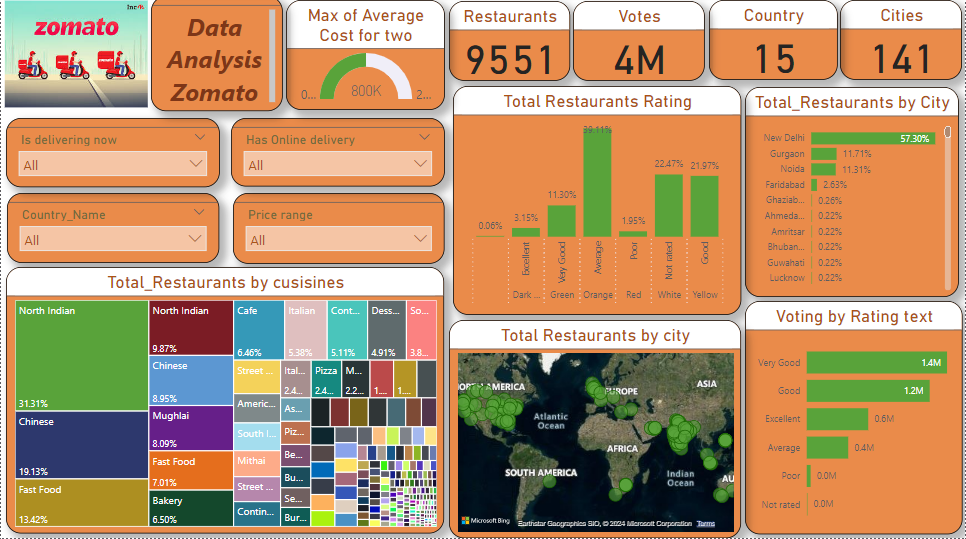

The page's visual inventory and layout, read from the dashboard file:
{"tool":"powerbi","page":{"name":"Page 1","canvas":[1280,720],"ordinal":0},"visuals":[{"type":"slicer","fields":{"Values":["zomato.country_names"]},"box":[8,261.7,281.6,93],"z":0},{"type":"slicer","fields":{"Values":["zomato.Price range"]},"box":[308.3,261.5,280.8,93.6],"z":1000},{"type":"slicer","fields":{"Values":["zomato.Has Online delivery"]},"box":[305.5,162.4,283.5,90.8],"z":2000},{"type":"slicer","fields":{"Values":["zomato.Is delivering now"]},"box":[6.6,162.1,284.3,91.7],"z":3000},{"type":"card","title":"Cities","fields":{"Values":["zomato.Total_cities"]},"box":[1114.8,5.5,162.4,106],"z":4000},{"type":"card","title":"Country","fields":{"Values":["zomato.Total_country"]},"box":[940,5.5,170.7,106],"z":5000},{"type":"card","title":"Restaurants","fields":{"Values":["zomato.total_resturants"]},"box":[594.6,6.9,161,106],"z":6000},{"type":"card","title":"Votes","fields":{"Values":["Sum(zomato.Votes)"]},"box":[759.7,6.9,174.8,106],"z":7000},{"type":"barChart","title":"Total_Restaurants  by City","fields":{"Y":["zomato.total_resturants"],"Category":["zomato.City"]},"box":[988.2,121.1,283.5,279.4],"z":8000},{"type":"treemap","title":" Total_Restaurants by cusisines","fields":{"Group":["zomato.cusisines"],"Values":["zomato.total_resturants"]},"box":[6.9,360.6,582.2,353.7],"z":9000},{"type":"columnChart","title":"Total Restaurants Rating ","fields":{"Category":["zomato.Rating color","zomato.Rating text"],"Y":["zomato.total_resturants"]},"box":[600.4,119.6,382.6,304.2],"z":10000},{"type":"barChart","title":"Voting by Rating text","fields":{"Category":["zomato.Rating text"],"Y":["Sum(zomato.Votes)"]},"box":[988.2,404.6,289,309.7],"z":11000},{"type":"gauge","fields":{"Y":["Max(zomato.Average Cost for two)"]},"box":[378.5,5.5,210.6,145.9],"z":12000},{"type":"map","title":"Total Restaurants by city","fields":{"Category":["zomato.City"],"Size":["zomato.Total_country"]},"box":[595.1,430.4,387.9,289.6],"z":13000},{"type":"image","box":[0,0,199.6,152.8],"z":14000},{"type":"textbox","box":[199.6,0,174.8,152.8],"z":15000}]}

Visuals, with their boxes in screenshot pixels (x1, y1, x2, y2), scaled from the page's 1280x720 canvas onto the 966x539 screenshot:
slicer - zomato.country_names: rect(6, 196, 219, 266)
slicer - zomato.Price range: rect(233, 196, 445, 266)
slicer - zomato.Has Online delivery: rect(231, 122, 445, 190)
slicer - zomato.Is delivering now: rect(5, 121, 220, 190)
"Cities" card: rect(841, 4, 964, 83)
"Country" card: rect(709, 4, 838, 83)
"Restaurants" card: rect(449, 5, 570, 85)
"Votes" card: rect(573, 5, 705, 85)
"Total_Restaurants  by City" barChart: rect(746, 91, 960, 300)
" Total_Restaurants by cusisines" treemap: rect(5, 270, 445, 535)
"Total Restaurants Rating " columnChart: rect(453, 90, 742, 317)
"Voting by Rating text" barChart: rect(746, 303, 964, 535)
gauge - Max(zomato.Average Cost for two): rect(286, 4, 445, 113)
"Total Restaurants by city" map: rect(449, 322, 742, 538)
image: rect(0, 0, 151, 114)
textbox: rect(151, 0, 283, 114)
